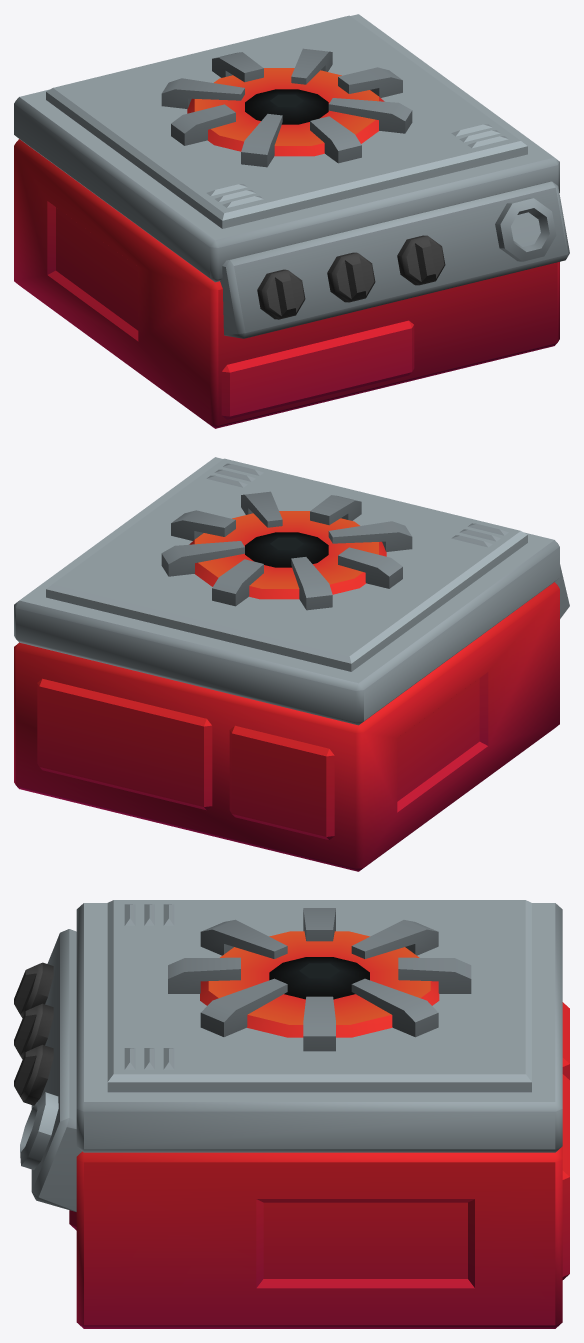
File: Stove Single.glb
The picture shows the model from 3 angles, top to bottom: view 1: azimuth 30°, elevation 25°; view 2: azimuth 150°, elevation 25°; view 3: azimuth 270°, elevation 25°; orthographic projection. The views are drawn at different scales.
Visible parts, largest first — view 1: stove_single; view 2: stove_single; view 3: stove_single.
Boxes of the visible parts, x1,y1,x2,y2 form: stove_single: [14, 14, 569, 428]; stove_single: [14, 457, 569, 871]; stove_single: [14, 900, 569, 1328].
Bounding box in the file's own units: 2 × 1.21 × 2.29.
1 material, 1 textured.
